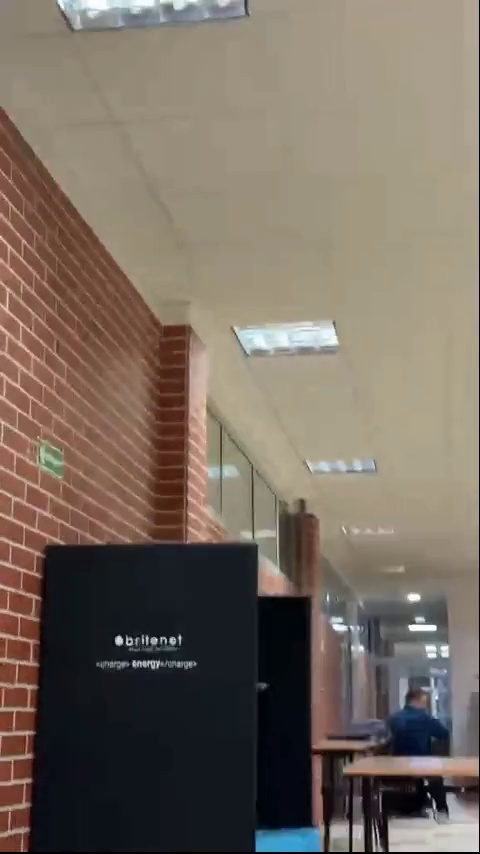no vest: (386, 694, 454, 763)
